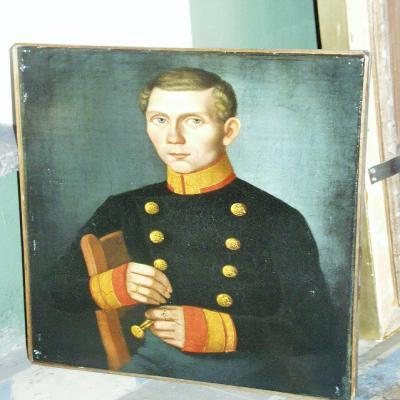painting: (8, 42, 373, 400)
